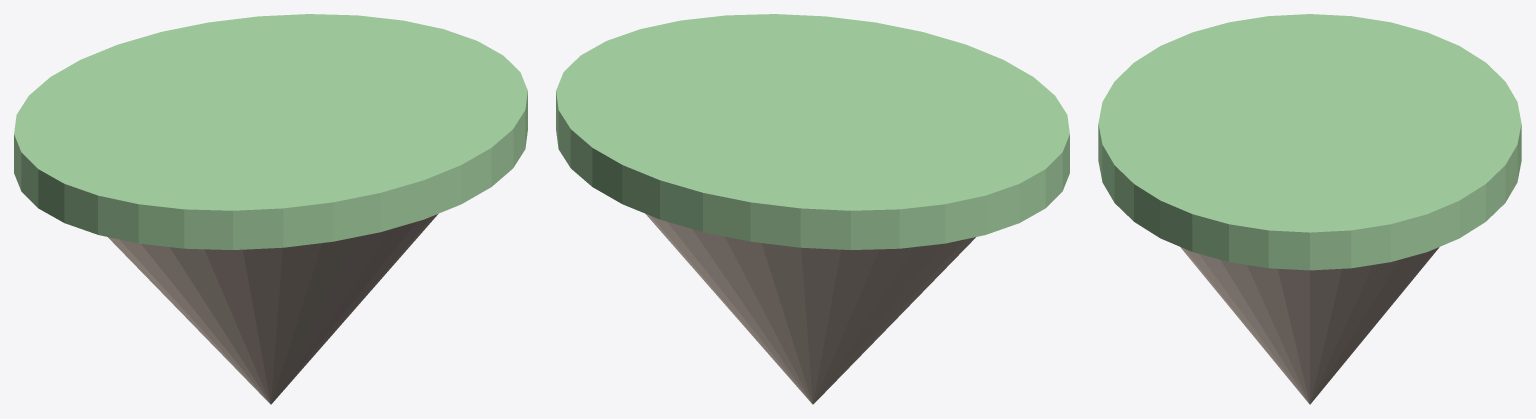
File: floating_island_base.glb
The picture shows the model from 3 angles, left to right: view 1: azimuth 30°, elevation 25°; view 2: azimuth 150°, elevation 25°; view 3: azimuth 270°, elevation 25°; orthographic projection. The views are drawn at different scales.
Parts seen in each view (by area): view 1: Cylinder, Cone; view 2: Cylinder, Cone; view 3: Cylinder, Cone.
Part boxes in pixels (box(x1,y1,x2,y2)): Cylinder: box(14, 14, 527, 249); Cone: box(108, 214, 437, 404); Cylinder: box(556, 14, 1069, 249); Cone: box(646, 214, 975, 404); Cylinder: box(1098, 14, 1521, 270); Cone: box(1180, 247, 1439, 404).
Size of the model in its own units: 9.9 by 5.95 by 8.1.
